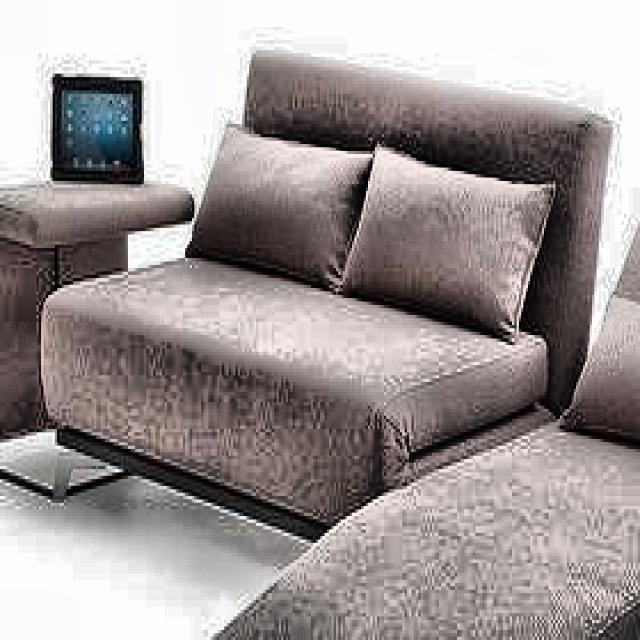sofa: (41, 50, 608, 503)
